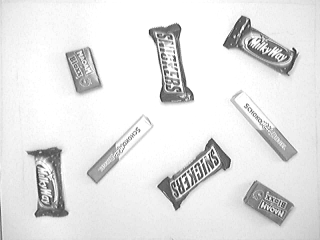Maoam: (241, 178, 297, 230), (63, 45, 104, 97)
Milkyway: (220, 13, 300, 78), (24, 145, 71, 219)
Riegel: (228, 88, 299, 163), (85, 113, 154, 185)
Snickers: (155, 136, 233, 213), (146, 21, 197, 105)
